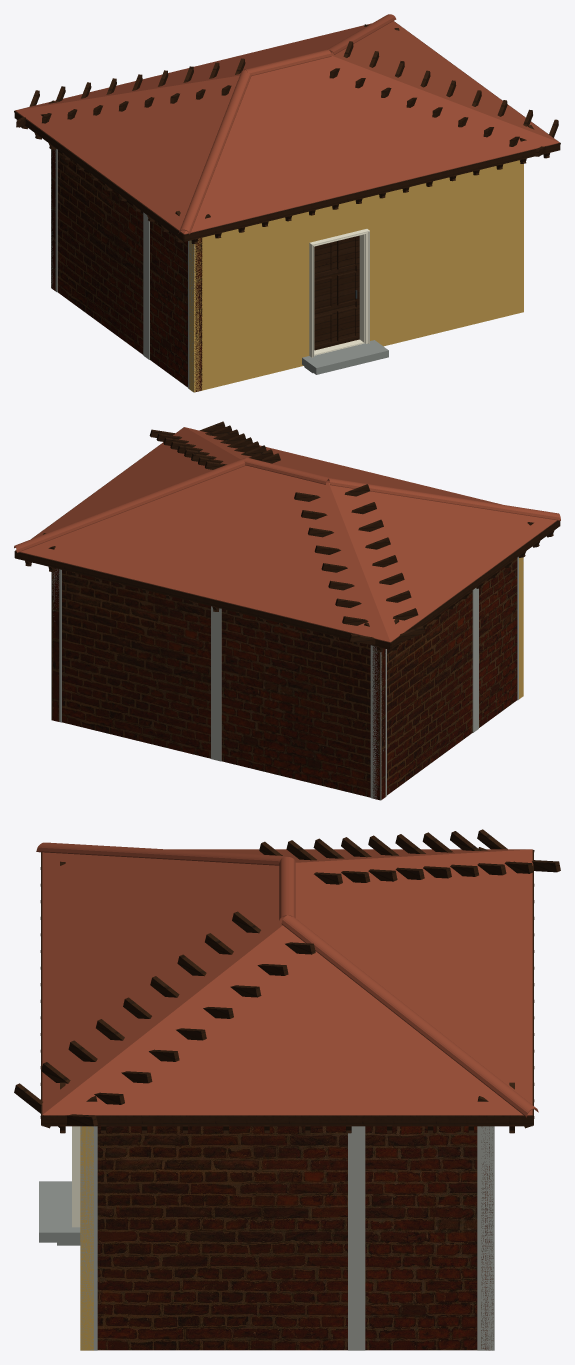
Rendered from building.glb.
3 views of the same model, one above another, from view 1: azimuth 30°, elevation 25°; view 2: azimuth 150°, elevation 25°; view 3: azimuth 270°, elevation 25° (orthographic). The views are drawn at different scales.
Parts seen in each view (by area): view 1: house:0/edge0/z0/house:0/edge0/z0/wall_0_0, house:0/edge3/z0/house:0/edge3/z0/wall_0_0, roof_assembly/cubierta/roof_fascia#0004, site/entrance/0/entrance_step#0002, roof_assembly/cubierta/roof_fascia#0002, house:0/edge3/z0/house:0/edge3/z0/column_2_0, house:0/edge0/z0/opening_u2.80_v0.12/door_panel_back#0001, house:0/edge3/z0/house:0/edge3/z0/column_1_0, house:0/edge0/z0/opening_u2.80_v0.12/door_moulding#0028, house:0/edge2/z0/house:0/edge2/z0/wall_0_0, house:0/edge0/z0/opening_u2.80_v0.12/door_reveal#0001, house:0/edge3/z0/house:0/edge3/z0/column_0_0 (+4 smaller); view 2: house:0/edge2/z0/house:0/edge2/z0/wall_0_0, house:0/edge3/z0/house:0/edge3/z0/wall_0_0, roof_assembly/cubierta/roof_fascia#0008, house:0/edge2/z0/house:0/edge2/z0/column_2_0, house:0/edge2/z0/house:0/edge2/z0/column_1_0, roof_assembly/cubierta/roof_fascia#0002, house:0/edge1/z0/house:0/edge1/z0/wall_0_0, house:0/edge3/z0/house:0/edge3/z0/column_2_0, house:0/edge0/z0/house:0/edge0/z0/wall_0_0, house:0/edge2/z0/house:0/edge2/z0/column_0_0; view 3: house:0/edge1/z0/house:0/edge1/z0/wall_0_0, roof_assembly/cubierta/roof_fascia#0006, house:0/edge1/z0/house:0/edge1/z0/column_1_0, house:0/edge1/z0/house:0/edge1/z0/column_2_0, house:0/edge1/z0/house:0/edge1/z0/column_0_0, house:0/edge0/z0/house:0/edge0/z0/wall_0_0, site/entrance/0/entrance_step#0002, house:0/edge0/z0/opening_u2.80_v0.12/door_moulding#0028, house:0/edge2/z0/house:0/edge2/z0/wall_0_0.
Part boxes in pixels (left/top/right/bottom): house:0/edge0/z0/house:0/edge0/z0/wall_0_0: left=189, top=160, right=523, bottom=392; house:0/edge3/z0/house:0/edge3/z0/wall_0_0: left=57, top=150, right=202, bottom=391; roof_assembly/cubierta/roof_fascia#0004: left=184, top=143, right=560, bottom=241; site/entrance/0/entrance_step#0002: left=302, top=340, right=388, bottom=374; roof_assembly/cubierta/roof_fascia#0002: left=14, top=111, right=184, bottom=241; house:0/edge3/z0/house:0/edge3/z0/column_2_0: left=143, top=212, right=149, bottom=359; house:0/edge0/z0/opening_u2.80_v0.12/door_panel_back#0001: left=314, top=241, right=355, bottom=341; house:0/edge3/z0/house:0/edge3/z0/column_1_0: left=188, top=240, right=194, bottom=392; house:0/edge0/z0/opening_u2.80_v0.12/door_moulding#0028: left=309, top=229, right=369, bottom=357; house:0/edge2/z0/house:0/edge2/z0/wall_0_0: left=51, top=149, right=55, bottom=290; house:0/edge0/z0/opening_u2.80_v0.12/door_reveal#0001: left=310, top=234, right=362, bottom=353; house:0/edge3/z0/house:0/edge3/z0/column_0_0: left=51, top=149, right=57, bottom=292; house:0/edge2/z0/house:0/edge2/z0/wall_0_0: left=62, top=570, right=385, bottom=799; house:0/edge3/z0/house:0/edge3/z0/wall_0_0: left=372, top=558, right=517, bottom=800; roof_assembly/cubierta/roof_fascia#0008: left=15, top=551, right=390, bottom=649; house:0/edge2/z0/house:0/edge2/z0/column_2_0: left=211, top=606, right=221, bottom=761; house:0/edge2/z0/house:0/edge2/z0/column_1_0: left=370, top=645, right=381, bottom=799; roof_assembly/cubierta/roof_fascia#0002: left=390, top=520, right=560, bottom=649; house:0/edge1/z0/house:0/edge1/z0/wall_0_0: left=52, top=568, right=59, bottom=721; house:0/edge3/z0/house:0/edge3/z0/column_2_0: left=472, top=588, right=478, bottom=732; house:0/edge0/z0/house:0/edge0/z0/wall_0_0: left=519, top=557, right=523, bottom=699; house:0/edge2/z0/house:0/edge2/z0/column_0_0: left=51, top=569, right=61, bottom=722; house:0/edge1/z0/house:0/edge1/z0/wall_0_0: left=97, top=1126, right=477, bottom=1350; roof_assembly/cubierta/roof_fascia#0006: left=42, top=1115, right=532, bottom=1126; house:0/edge1/z0/house:0/edge1/z0/column_1_0: left=477, top=1126, right=494, bottom=1350; house:0/edge1/z0/house:0/edge1/z0/column_2_0: left=348, top=1126, right=365, bottom=1350; house:0/edge1/z0/house:0/edge1/z0/column_0_0: left=80, top=1126, right=97, bottom=1350; house:0/edge0/z0/house:0/edge0/z0/wall_0_0: left=80, top=1126, right=93, bottom=1350; site/entrance/0/entrance_step#0002: left=39, top=1181, right=80, bottom=1242; house:0/edge0/z0/opening_u2.80_v0.12/door_moulding#0028: left=72, top=1126, right=80, bottom=1227; house:0/edge2/z0/house:0/edge2/z0/wall_0_0: left=481, top=1128, right=493, bottom=1350.
Bounding box in the file's own units: 9.92 × 5.6 × 7.92.
8 materials, 2 textured.
